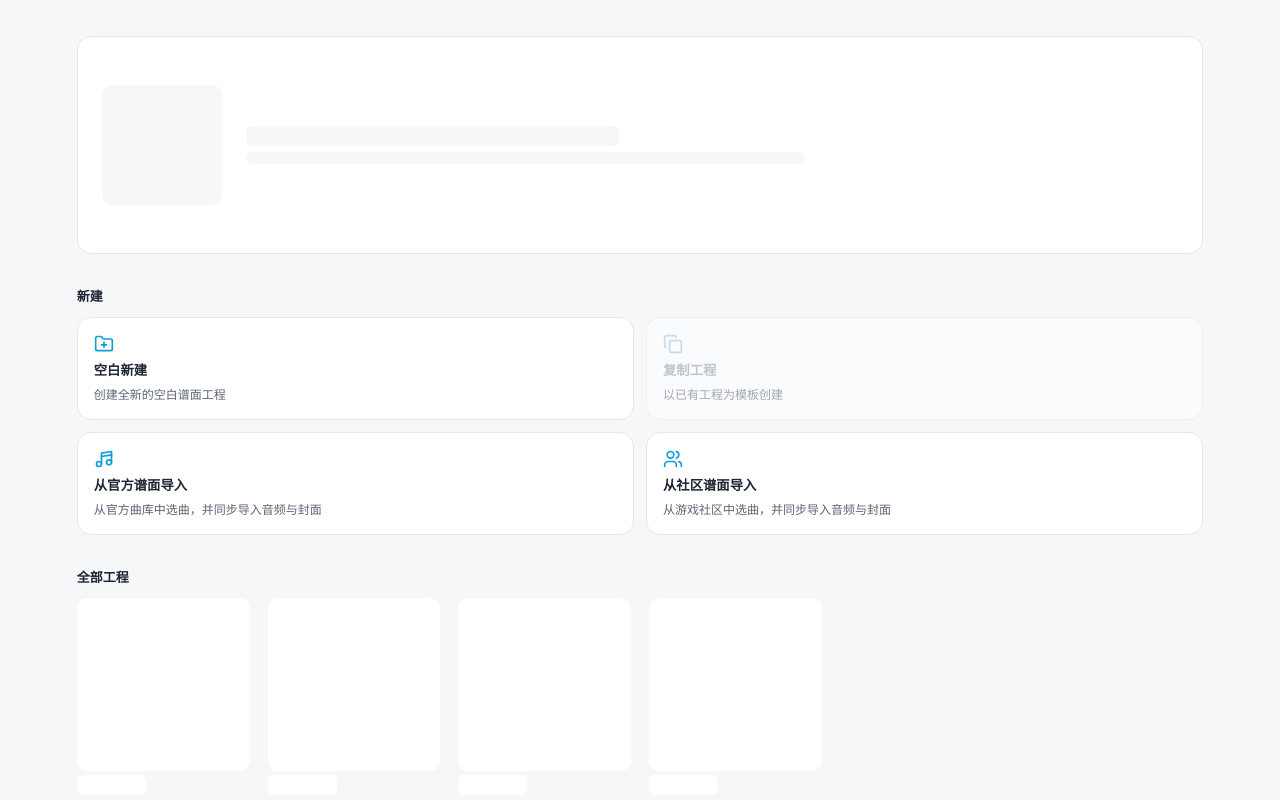
it: 票 16 · 预览区的素材复用（本机优先、直链降级） › 选中即经网关把封面收进缓存（Q2：这次导入就零下载；行没滚到也兜底）
Expected: the heading "全部工程" is shown, x1=77 y1=567 x2=129 y2=586
Click the button "空白新建 创建全新的空白谱面工程" at coordinates (120, 370), box x1=77 y1=317 x2=634 y2=420
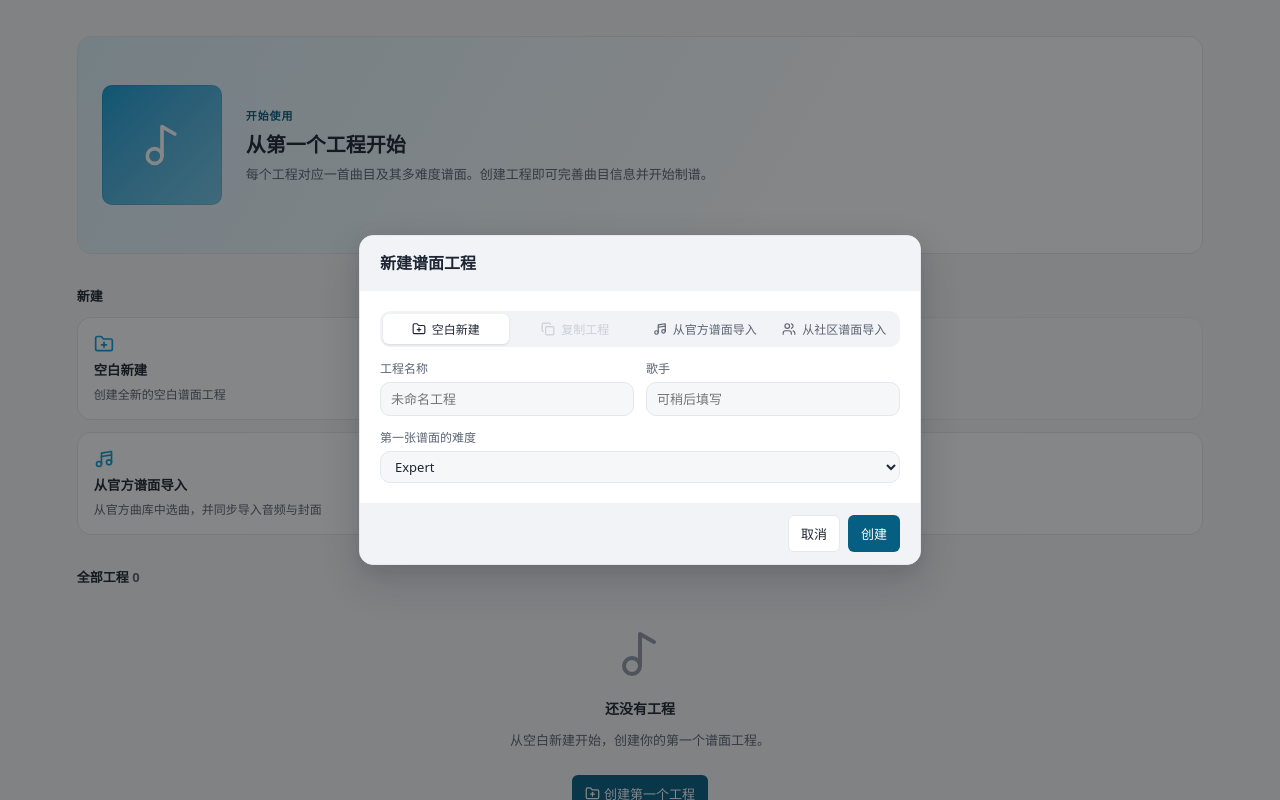
Click the button "从官方谱面导入" at coordinates (705, 329), box x1=642 y1=314 x2=768 y2=344
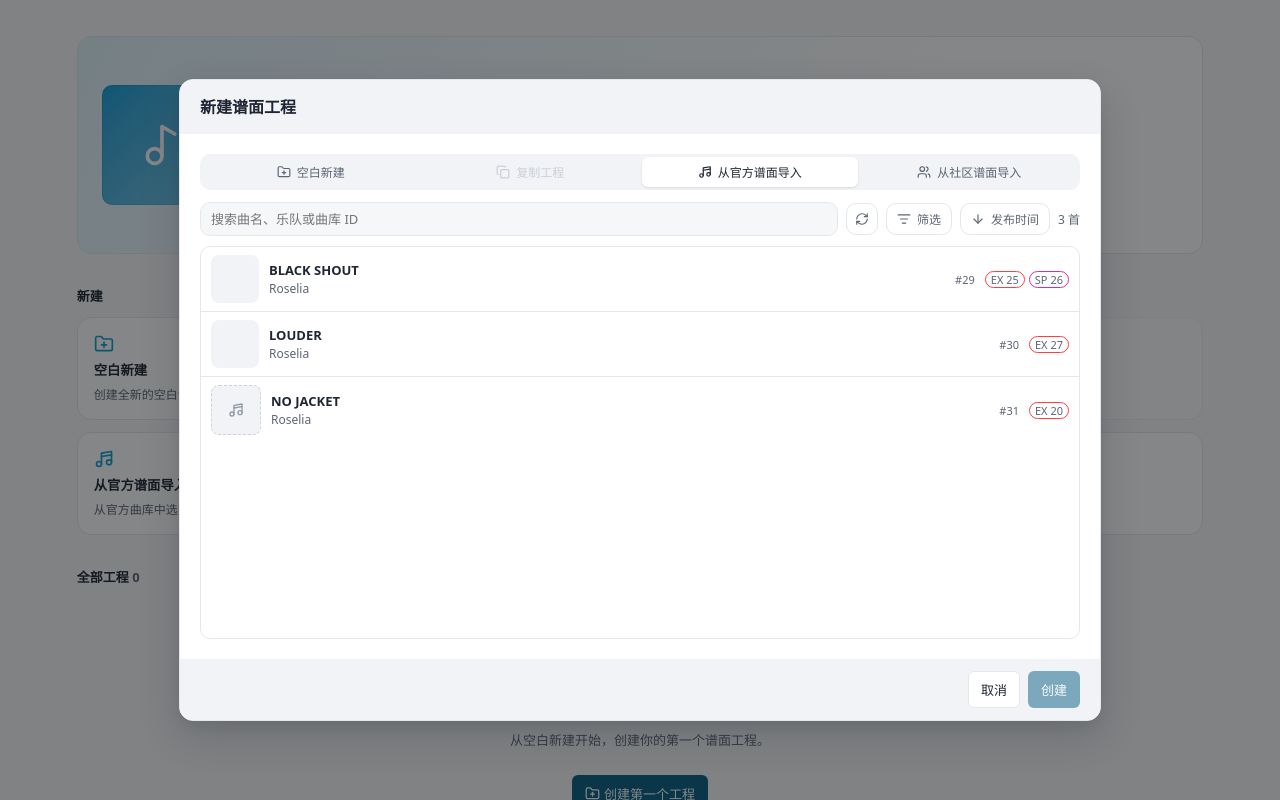
Result: the option "BLACK SHOUT Roselia #29 EX 25 SP 26" is shown
Click the option "BLACK SHOUT Roselia #29 EX 25 SP 26" at coordinates (235, 279), box x1=201 y1=247 x2=1079 y2=311
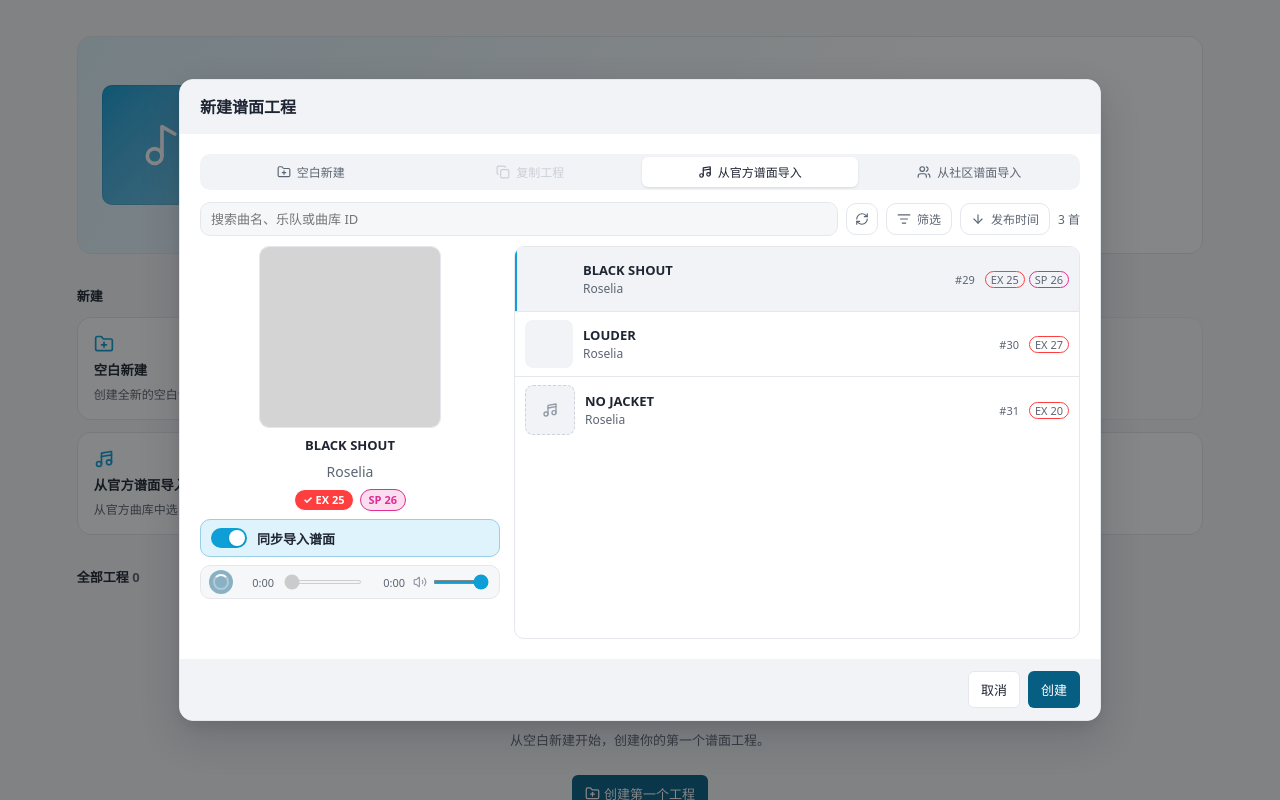
Result: the text with class "off-preview__title" reads "BLACK SHOUT" at x1=305 y1=436 x2=395 y2=454
